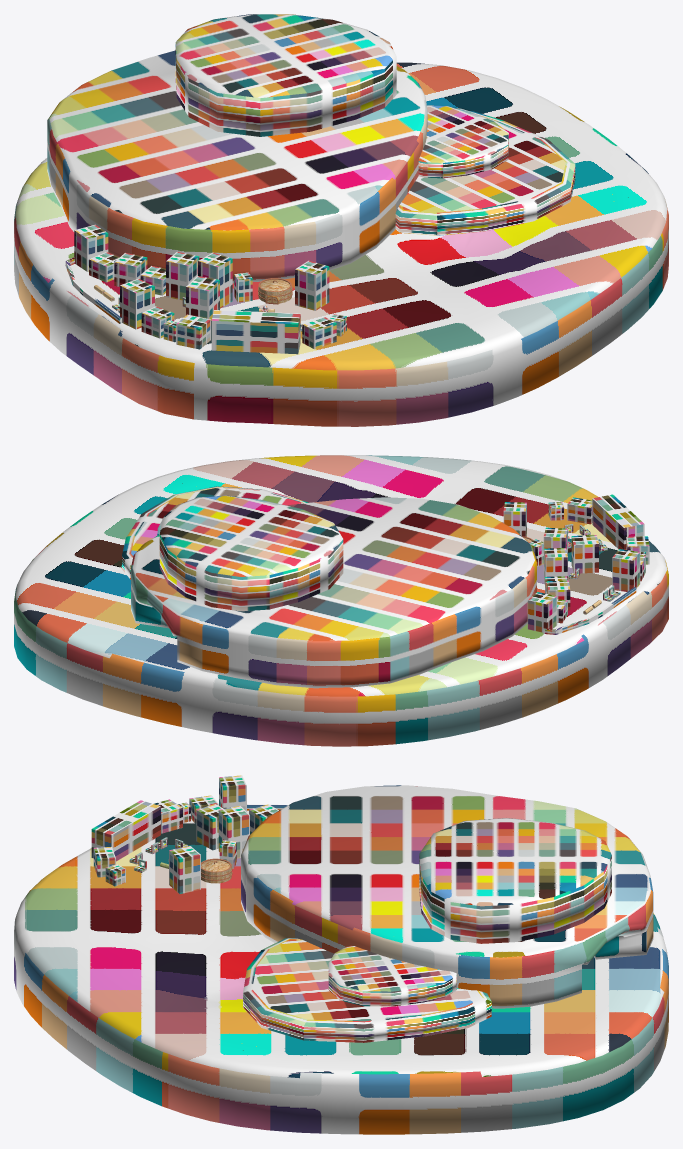
The model's file is tiramysu-land-base.glb.
3 views of the same model, one above another, from view 1: azimuth 30°, elevation 25°; view 2: azimuth 150°, elevation 25°; view 3: azimuth 270°, elevation 25° (orthographic). The views are drawn at different scales.
Visible parts, largest first — view 1: CakeLayer, CakeLayer.001, CakeLayer.002, CakeLayer.003, CakeLayer.004, DelicoTown.002, DelicoTown.012, DelicoTown.001, DelicoTown, DelicoTown.006, DelicoTown.010, DelicoTown.013 (+6 smaller); view 2: CakeLayer, CakeLayer.001, CakeLayer.002, CakeLayer.003, DelicoTown.002, DelicoTown.001, DelicoTown.010, DelicoTown, DelicoTown.006, DelicoTown.012, Fence, DelicoTown.011 (+2 smaller); view 3: CakeLayer, CakeLayer.001, CakeLayer.002, CakeLayer.003, CakeLayer.004, DelicoTown.002, DelicoTown.012, DelicoTown.013, DelicoTown, DelicoTown.001, Steamer, DelicoTown.003 (+1 smaller).
Boxes of the visible parts, left/top/right/bottom form: CakeLayer: left=14, top=62, right=668, bottom=426; CakeLayer.001: left=47, top=50, right=427, bottom=283; CakeLayer.002: left=175, top=14, right=396, bottom=136; CakeLayer.003: left=395, top=107, right=575, bottom=235; CakeLayer.004: left=418, top=105, right=508, bottom=178; DelicoTown.002: left=211, top=310, right=300, bottom=354; DelicoTown.012: left=295, top=260, right=329, bottom=310; DelicoTown.001: left=120, top=278, right=154, bottom=329; DelicoTown: left=186, top=276, right=219, bottom=320; DelicoTown.006: left=166, top=252, right=199, bottom=300; DelicoTown.010: left=74, top=224, right=108, bottom=271; DelicoTown.013: left=198, top=252, right=232, bottom=308; CakeLayer: left=14, top=455, right=668, bottom=746; CakeLayer.001: left=131, top=497, right=536, bottom=688; CakeLayer.002: left=159, top=495, right=343, bottom=611; CakeLayer.003: left=121, top=486, right=308, bottom=579; DelicoTown.002: left=592, top=494, right=644, bottom=549; DelicoTown.001: left=612, top=549, right=640, bottom=591; DelicoTown.010: left=527, top=592, right=557, bottom=632; DelicoTown: left=571, top=535, right=598, bottom=573; DelicoTown.006: left=544, top=548, right=567, bottom=583; DelicoTown.012: left=503, top=502, right=526, bottom=536; Fence: left=543, top=587, right=636, bottom=634; DelicoTown.011: left=567, top=497, right=592, bottom=524; CakeLayer: left=14, top=810, right=668, bottom=1134; CakeLayer.001: left=241, top=785, right=653, bottom=1008; CakeLayer.002: left=419, top=818, right=611, bottom=943; CakeLayer.003: left=243, top=938, right=491, bottom=1042; CakeLayer.004: left=328, top=945, right=456, bottom=1006; DelicoTown.002: left=91, top=800, right=160, bottom=861; DelicoTown.012: left=169, top=846, right=200, bottom=893; DelicoTown.013: left=218, top=806, right=249, bottom=858; DelicoTown: left=196, top=804, right=223, bottom=850; DelicoTown.001: left=219, top=775, right=246, bottom=811; Steamer: left=201, top=858, right=232, bottom=883; DelicoTown.003: left=154, top=799, right=182, bottom=833.
Bounding box in the file's own units: 97.79 × 25.58 × 100.
Materials: 9 (9 with a texture image).
